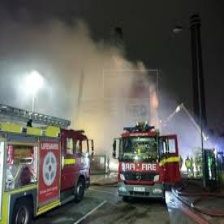smoke: (49, 37, 126, 132)
